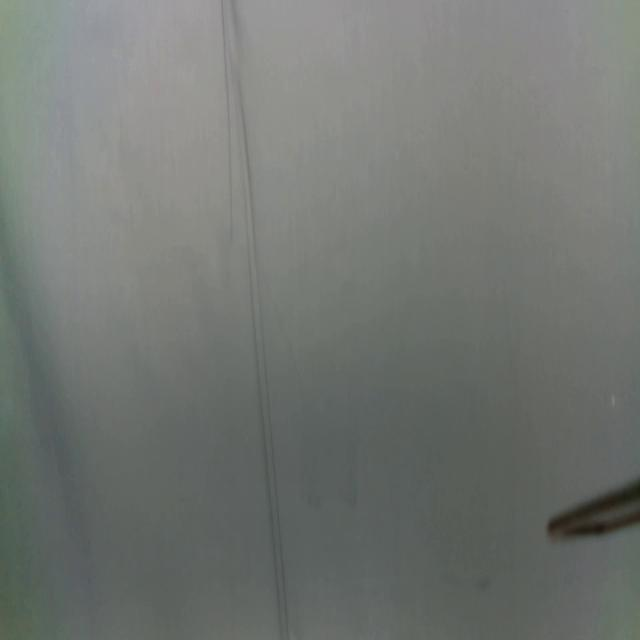crease: (237, 88, 290, 640), (218, 0, 236, 254)
